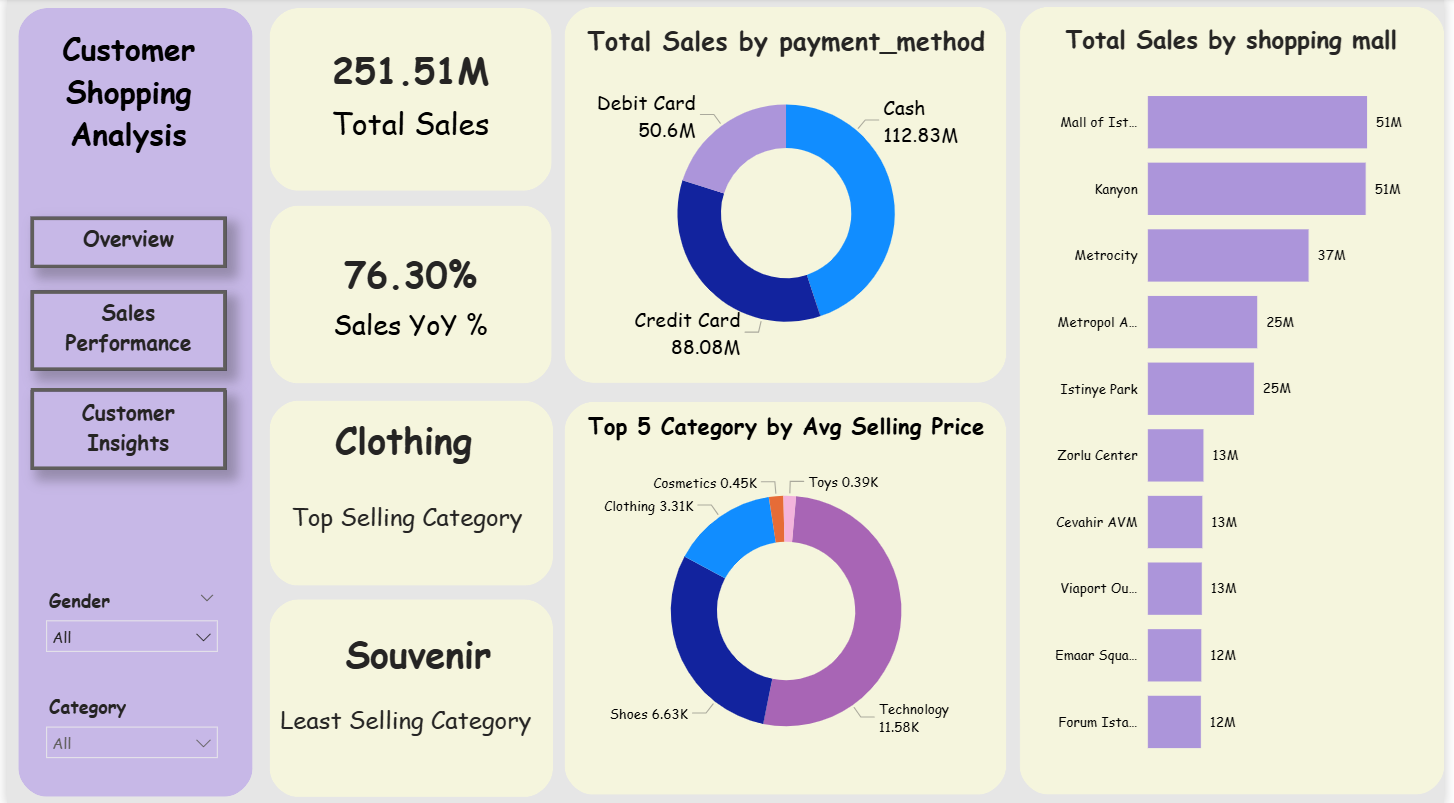

The page's visual inventory and layout, read from the dashboard file:
{"tool":"powerbi","page":{"name":"Sales Performance","canvas":[1280,720],"ordinal":1},"visuals":[{"type":"shape","box":[10,8.8,208.8,702.5],"z":0},{"type":"textbox","box":[21.4,21.4,174.3,150],"z":1000},{"type":"shape","box":[234.3,8.6,251.4,162.9],"z":2000},{"type":"card","fields":{"Values":["Measures .Total Sales"]},"box":[244.3,21.4,231.4,124.3],"z":3000},{"type":"shape","box":[233.8,358.8,252.5,165],"z":4000},{"type":"shape","box":[234.3,184.3,251.4,158.6],"z":5000},{"type":"shape","box":[233.8,535,252.5,176.2],"z":6000},{"type":"card","fields":{"Values":["Measures .Sales YoY %"]},"box":[244.3,194.3,231.4,137.1],"z":7000},{"type":"textbox","box":[256,556.1,220.4,66.8],"z":9000},{"type":"textbox","box":[234.7,622.9,240.4,49.8],"z":10000},{"type":"shape","box":[496.7,8.3,393.3,335],"z":11000},{"type":"shape","box":[496.7,360,393.3,350],"z":12000},{"type":"donutChart","fields":{"Y":["Measures .Total Sales"],"Category":["customer_shopping_data.payment_method"]},"box":[510,21.7,368.3,310],"z":13000},{"type":"shape","box":[901.7,8.3,378.3,701.7],"z":14000},{"type":"barChart","title":"Total Sales by shopping mall","fields":{"Y":["Measures .Total Sales"],"Category":["customer_shopping_data.shopping_mall"]},"box":[916.7,21.7,348.3,676.7],"z":15000},{"type":"donutChart","title":"Top 5 Category by Avg Selling Price","fields":{"Y":["Measures .Average Selling Price"],"Category":["customer_shopping_data.category"]},"box":[510,366.7,368.3,331.7],"z":16000},{"type":"textbox","box":[21.4,194.3,174.3,45.7],"z":17000},{"type":"textbox","box":[21.4,260,174.3,71.4],"z":18000},{"type":"textbox","box":[21.4,350,174.3,70],"z":19000},{"type":"actionButton","box":[21.4,194.3,174.3,45.7],"z":20000},{"type":"actionButton","box":[21.4,260,174.3,71.4],"z":21000},{"type":"actionButton","box":[21.4,347.1,174.3,72.9],"z":22000},{"type":"slicer","fields":{"Values":["customer_shopping_data.category"]},"box":[24.3,614.3,172.9,84.3],"z":25000},{"type":"slicer","fields":{"Values":["customer_shopping_data.gender"]},"box":[24.3,520,172.9,77.1],"z":26000},{"type":"textbox","box":[287.1,366.8,133.9,59.1],"z":26001},{"type":"textbox","box":[248.5,441.6,222,45.8],"z":26002}]}

Visuals, with their boxes in screenshot pixels (x1, y1, x2, y2), scaled from the page's 1280x720 canvas onto the 1454x803 screenshot:
shape: bbox=(11, 10, 249, 793)
textbox: bbox=(24, 24, 222, 191)
shape: bbox=(266, 10, 552, 191)
card - Measures .Total Sales: bbox=(278, 24, 540, 162)
shape: bbox=(266, 400, 552, 584)
shape: bbox=(266, 206, 552, 382)
shape: bbox=(266, 597, 552, 793)
card - Measures .Sales YoY %: bbox=(278, 217, 540, 370)
textbox: bbox=(291, 620, 541, 695)
textbox: bbox=(267, 695, 540, 750)
shape: bbox=(564, 9, 1011, 383)
shape: bbox=(564, 402, 1011, 792)
donutChart - Measures .Total Sales x customer_shopping_data.payment_method: bbox=(579, 24, 998, 370)
shape: bbox=(1024, 9, 1453, 792)
"Total Sales by shopping mall" barChart: bbox=(1041, 24, 1437, 779)
"Top 5 Category by Avg Selling Price" donutChart: bbox=(579, 409, 998, 779)
textbox: bbox=(24, 217, 222, 268)
textbox: bbox=(24, 290, 222, 370)
textbox: bbox=(24, 390, 222, 468)
actionButton: bbox=(24, 217, 222, 268)
actionButton: bbox=(24, 290, 222, 370)
actionButton: bbox=(24, 387, 222, 468)
slicer - customer_shopping_data.category: bbox=(28, 685, 224, 779)
slicer - customer_shopping_data.gender: bbox=(28, 580, 224, 666)
textbox: bbox=(326, 409, 478, 475)
textbox: bbox=(282, 493, 534, 544)
